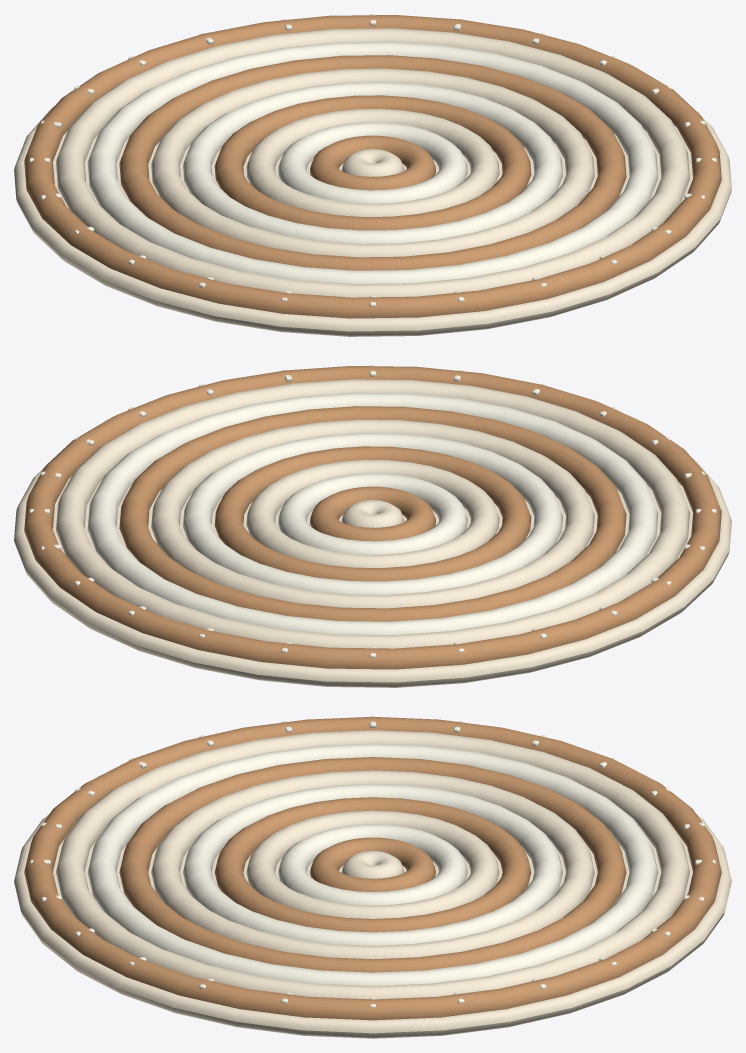
Rendered from rugBraidedRound.glb.
3 renders of one model, top to bottom at view 1: azimuth 30°, elevation 25°; view 2: azimuth 150°, elevation 25°; view 3: azimuth 270°, elevation 25°, orthographic.
Visible parts, largest first — view 1: Braided rug ring.010, Braided rug ring.009, Braided rug ring.008, Braided rug ring.007, Braided rug backing, Braided rug ring.006, Braided rug ring.005, Braided rug ring.004, Braided rug ring.003, Braided rug ring.002, Braided rug ring.001, Braided rug ring; view 2: Braided rug ring.010, Braided rug ring.009, Braided rug ring.008, Braided rug ring.007, Braided rug backing, Braided rug ring.006, Braided rug ring.005, Braided rug ring.004, Braided rug ring.003, Braided rug ring.002, Braided rug ring.001, Braided rug ring; view 3: Braided rug ring.010, Braided rug ring.009, Braided rug ring.008, Braided rug ring.007, Braided rug backing, Braided rug ring.006, Braided rug ring.005, Braided rug ring.004, Braided rug ring.003, Braided rug ring.002, Braided rug ring.001, Braided rug ring.
Boxes of the visible parts, bbox=[...] form: Braided rug ring.010: bbox=[24, 15, 721, 318]; Braided rug ring.009: bbox=[56, 28, 689, 297]; Braided rug ring.008: bbox=[87, 41, 658, 283]; Braided rug ring.007: bbox=[119, 55, 626, 270]; Braided rug backing: bbox=[14, 106, 731, 336]; Braided rug ring.006: bbox=[151, 68, 594, 257]; Braided rug ring.005: bbox=[183, 82, 562, 243]; Braided rug ring.004: bbox=[214, 95, 531, 230]; Braided rug ring.003: bbox=[246, 108, 499, 216]; Braided rug ring.002: bbox=[278, 122, 467, 203]; Braided rug ring.001: bbox=[310, 135, 435, 190]; Braided rug ring: bbox=[341, 149, 404, 176]; Braided rug ring.010: bbox=[24, 366, 721, 669]; Braided rug ring.009: bbox=[56, 379, 689, 648]; Braided rug ring.008: bbox=[87, 392, 658, 634]; Braided rug ring.007: bbox=[119, 406, 626, 621]; Braided rug backing: bbox=[14, 457, 731, 687]; Braided rug ring.006: bbox=[151, 419, 594, 608]; Braided rug ring.005: bbox=[183, 433, 562, 594]; Braided rug ring.004: bbox=[214, 446, 531, 581]; Braided rug ring.003: bbox=[246, 459, 499, 567]; Braided rug ring.002: bbox=[278, 473, 467, 554]; Braided rug ring.001: bbox=[310, 486, 435, 541]; Braided rug ring: bbox=[341, 500, 404, 527]; Braided rug ring.010: bbox=[24, 716, 721, 1020]; Braided rug ring.009: bbox=[56, 730, 689, 999]; Braided rug ring.008: bbox=[87, 743, 658, 985]; Braided rug ring.007: bbox=[119, 757, 626, 972]; Braided rug backing: bbox=[14, 814, 731, 1038]; Braided rug ring.006: bbox=[151, 770, 594, 959]; Braided rug ring.005: bbox=[183, 784, 562, 945]; Braided rug ring.004: bbox=[214, 797, 531, 932]; Braided rug ring.003: bbox=[246, 810, 499, 918]; Braided rug ring.002: bbox=[278, 824, 467, 905]; Braided rug ring.001: bbox=[310, 837, 435, 891]; Braided rug ring: bbox=[341, 851, 404, 878].
Bounding box in the file's own units: 1.9 × 0.0881 × 1.9.
